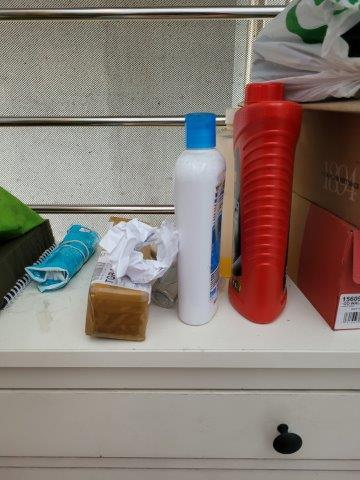kertas: (107, 215, 178, 285)
plastik: (245, 1, 360, 96)
